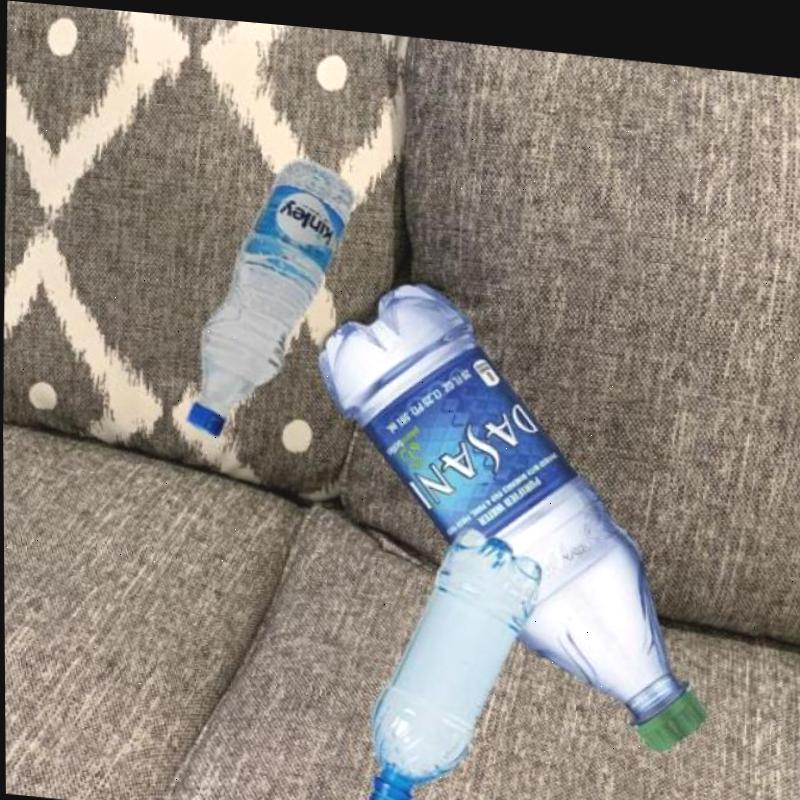botella: (313, 262, 715, 745), (362, 511, 543, 800), (179, 142, 353, 442)
